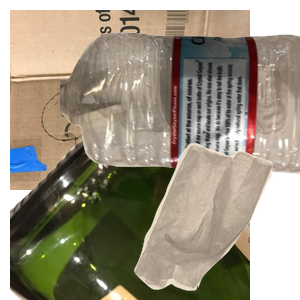cardboard: (10, 10, 250, 190)
glass: (10, 120, 250, 300)
plastic: (60, 30, 300, 196)
trash: (132, 140, 300, 300)
